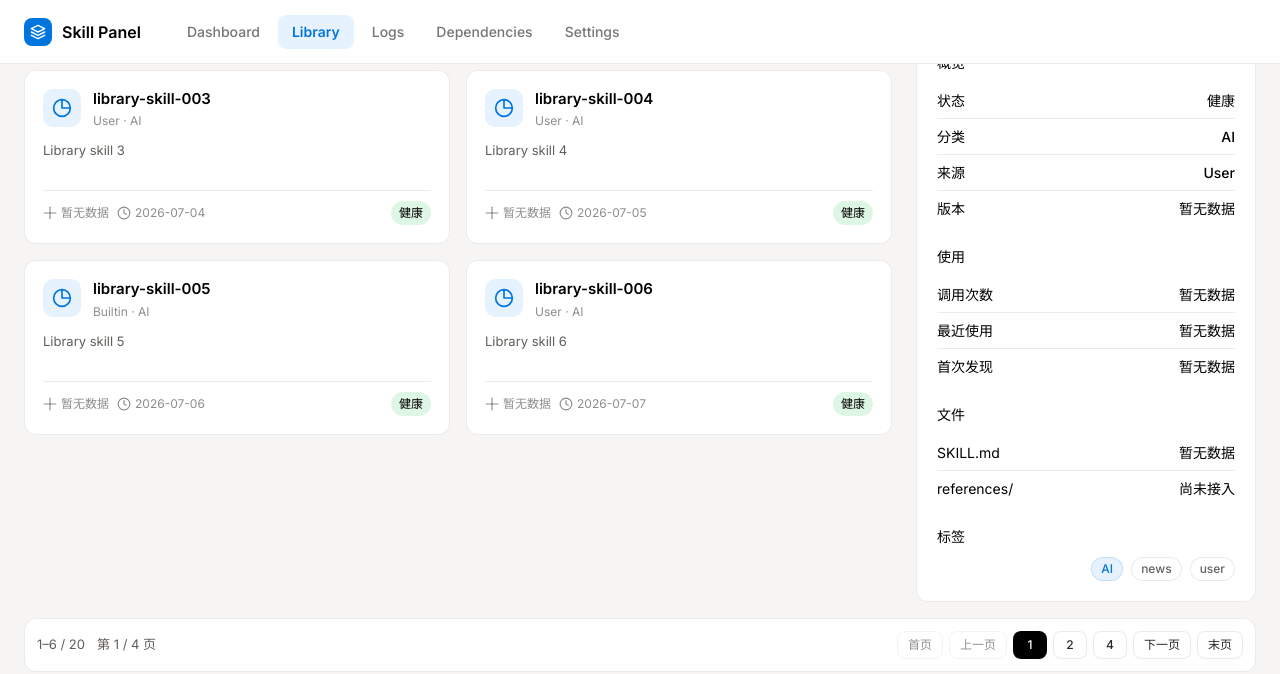
Test: AppShell Tauri event fallback › resets to page 1 after search changes
(page scrolled)
Click the button "下一页".
click(1162, 645)  # box [1133,631,1191,659]
(page scrolled)
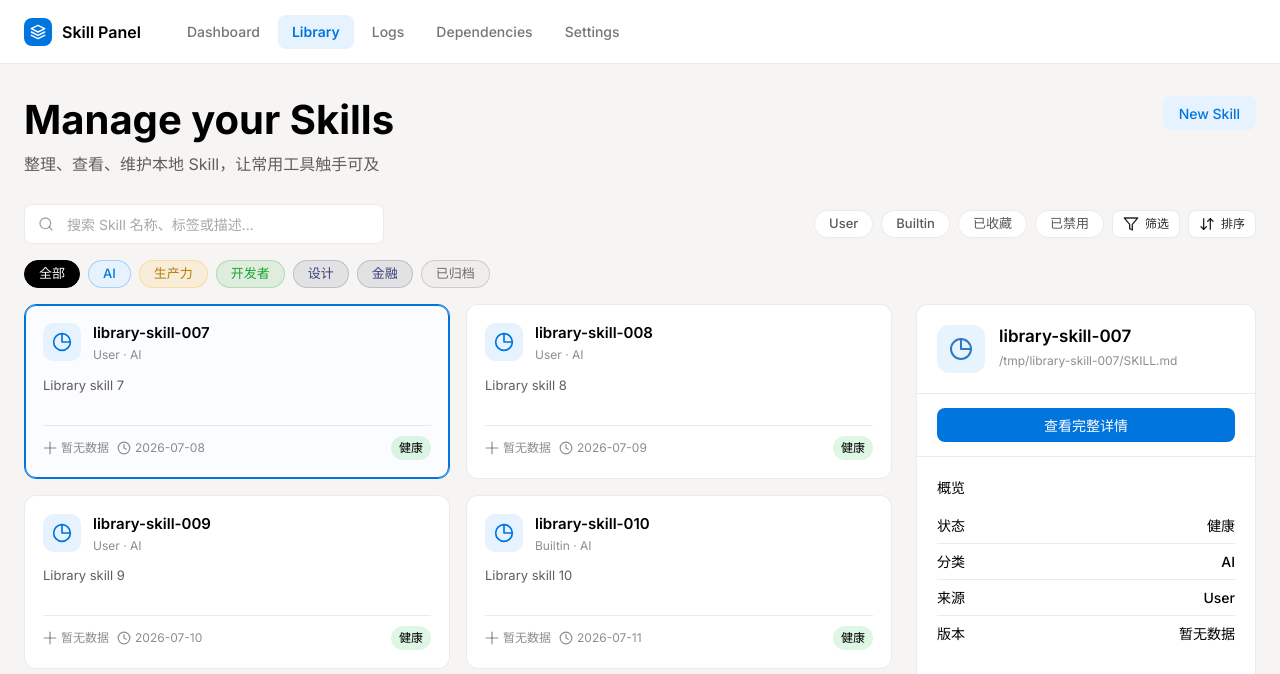
Type "020" into the field labelled "搜索 Skill".
click(204, 224); type("020")  # box [24,204,384,244]
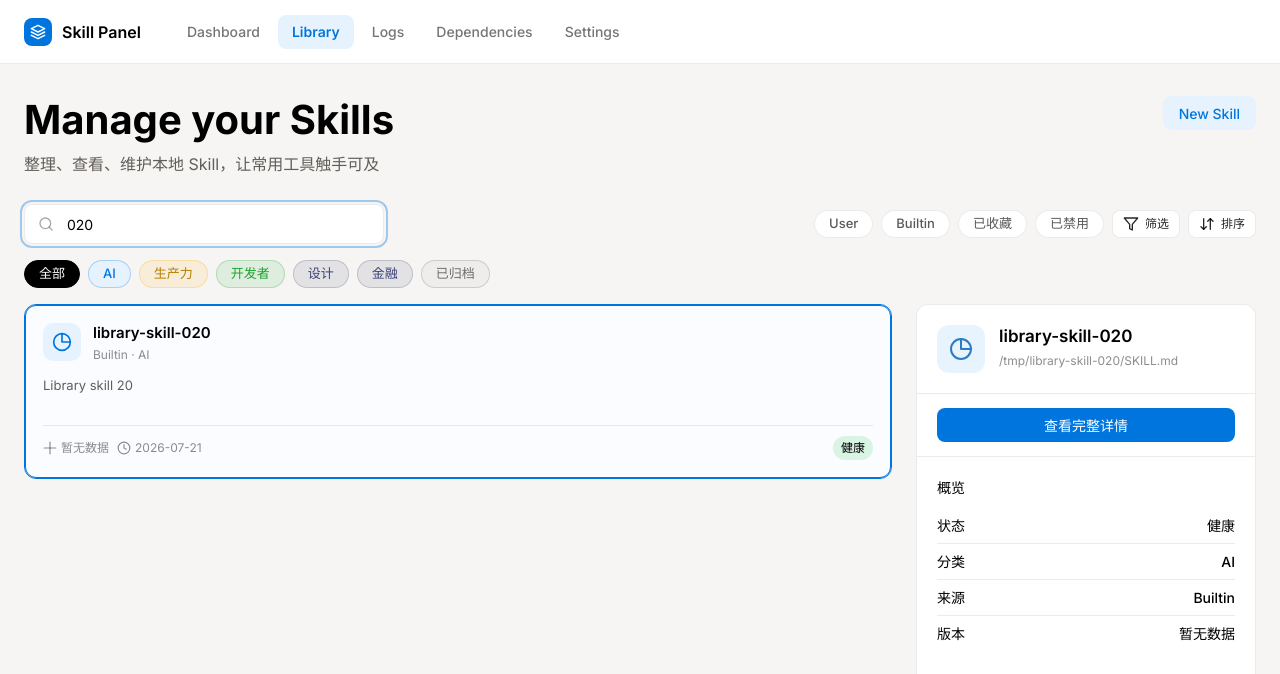
Check: the text "library-skill-020" is shown, box [93,323,211,343]
